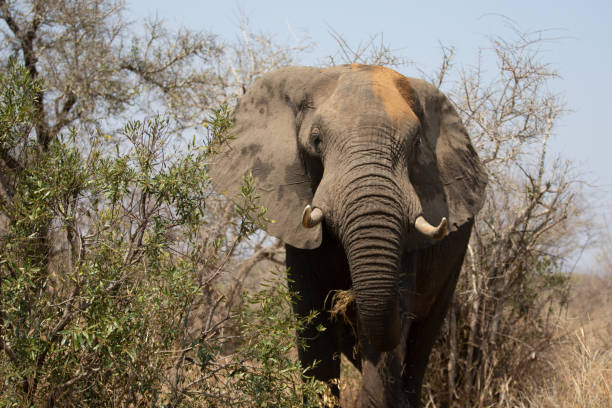africanelephant: (280, 74, 452, 274)
